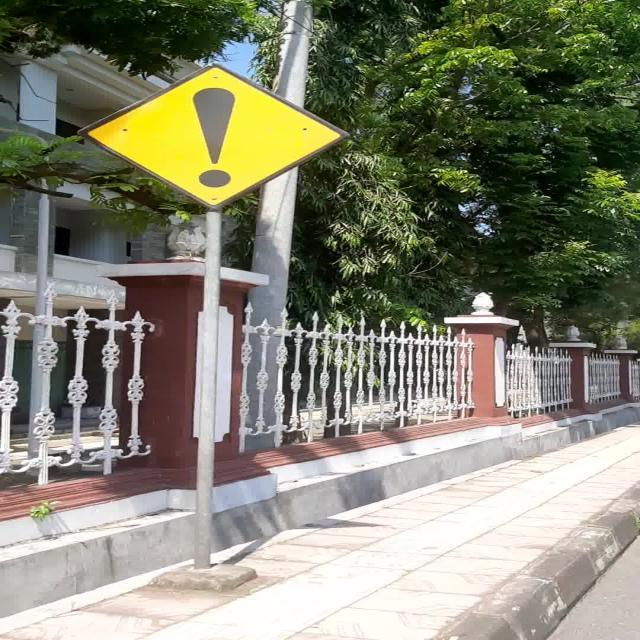Hati-Hati: (77, 62, 350, 210)
